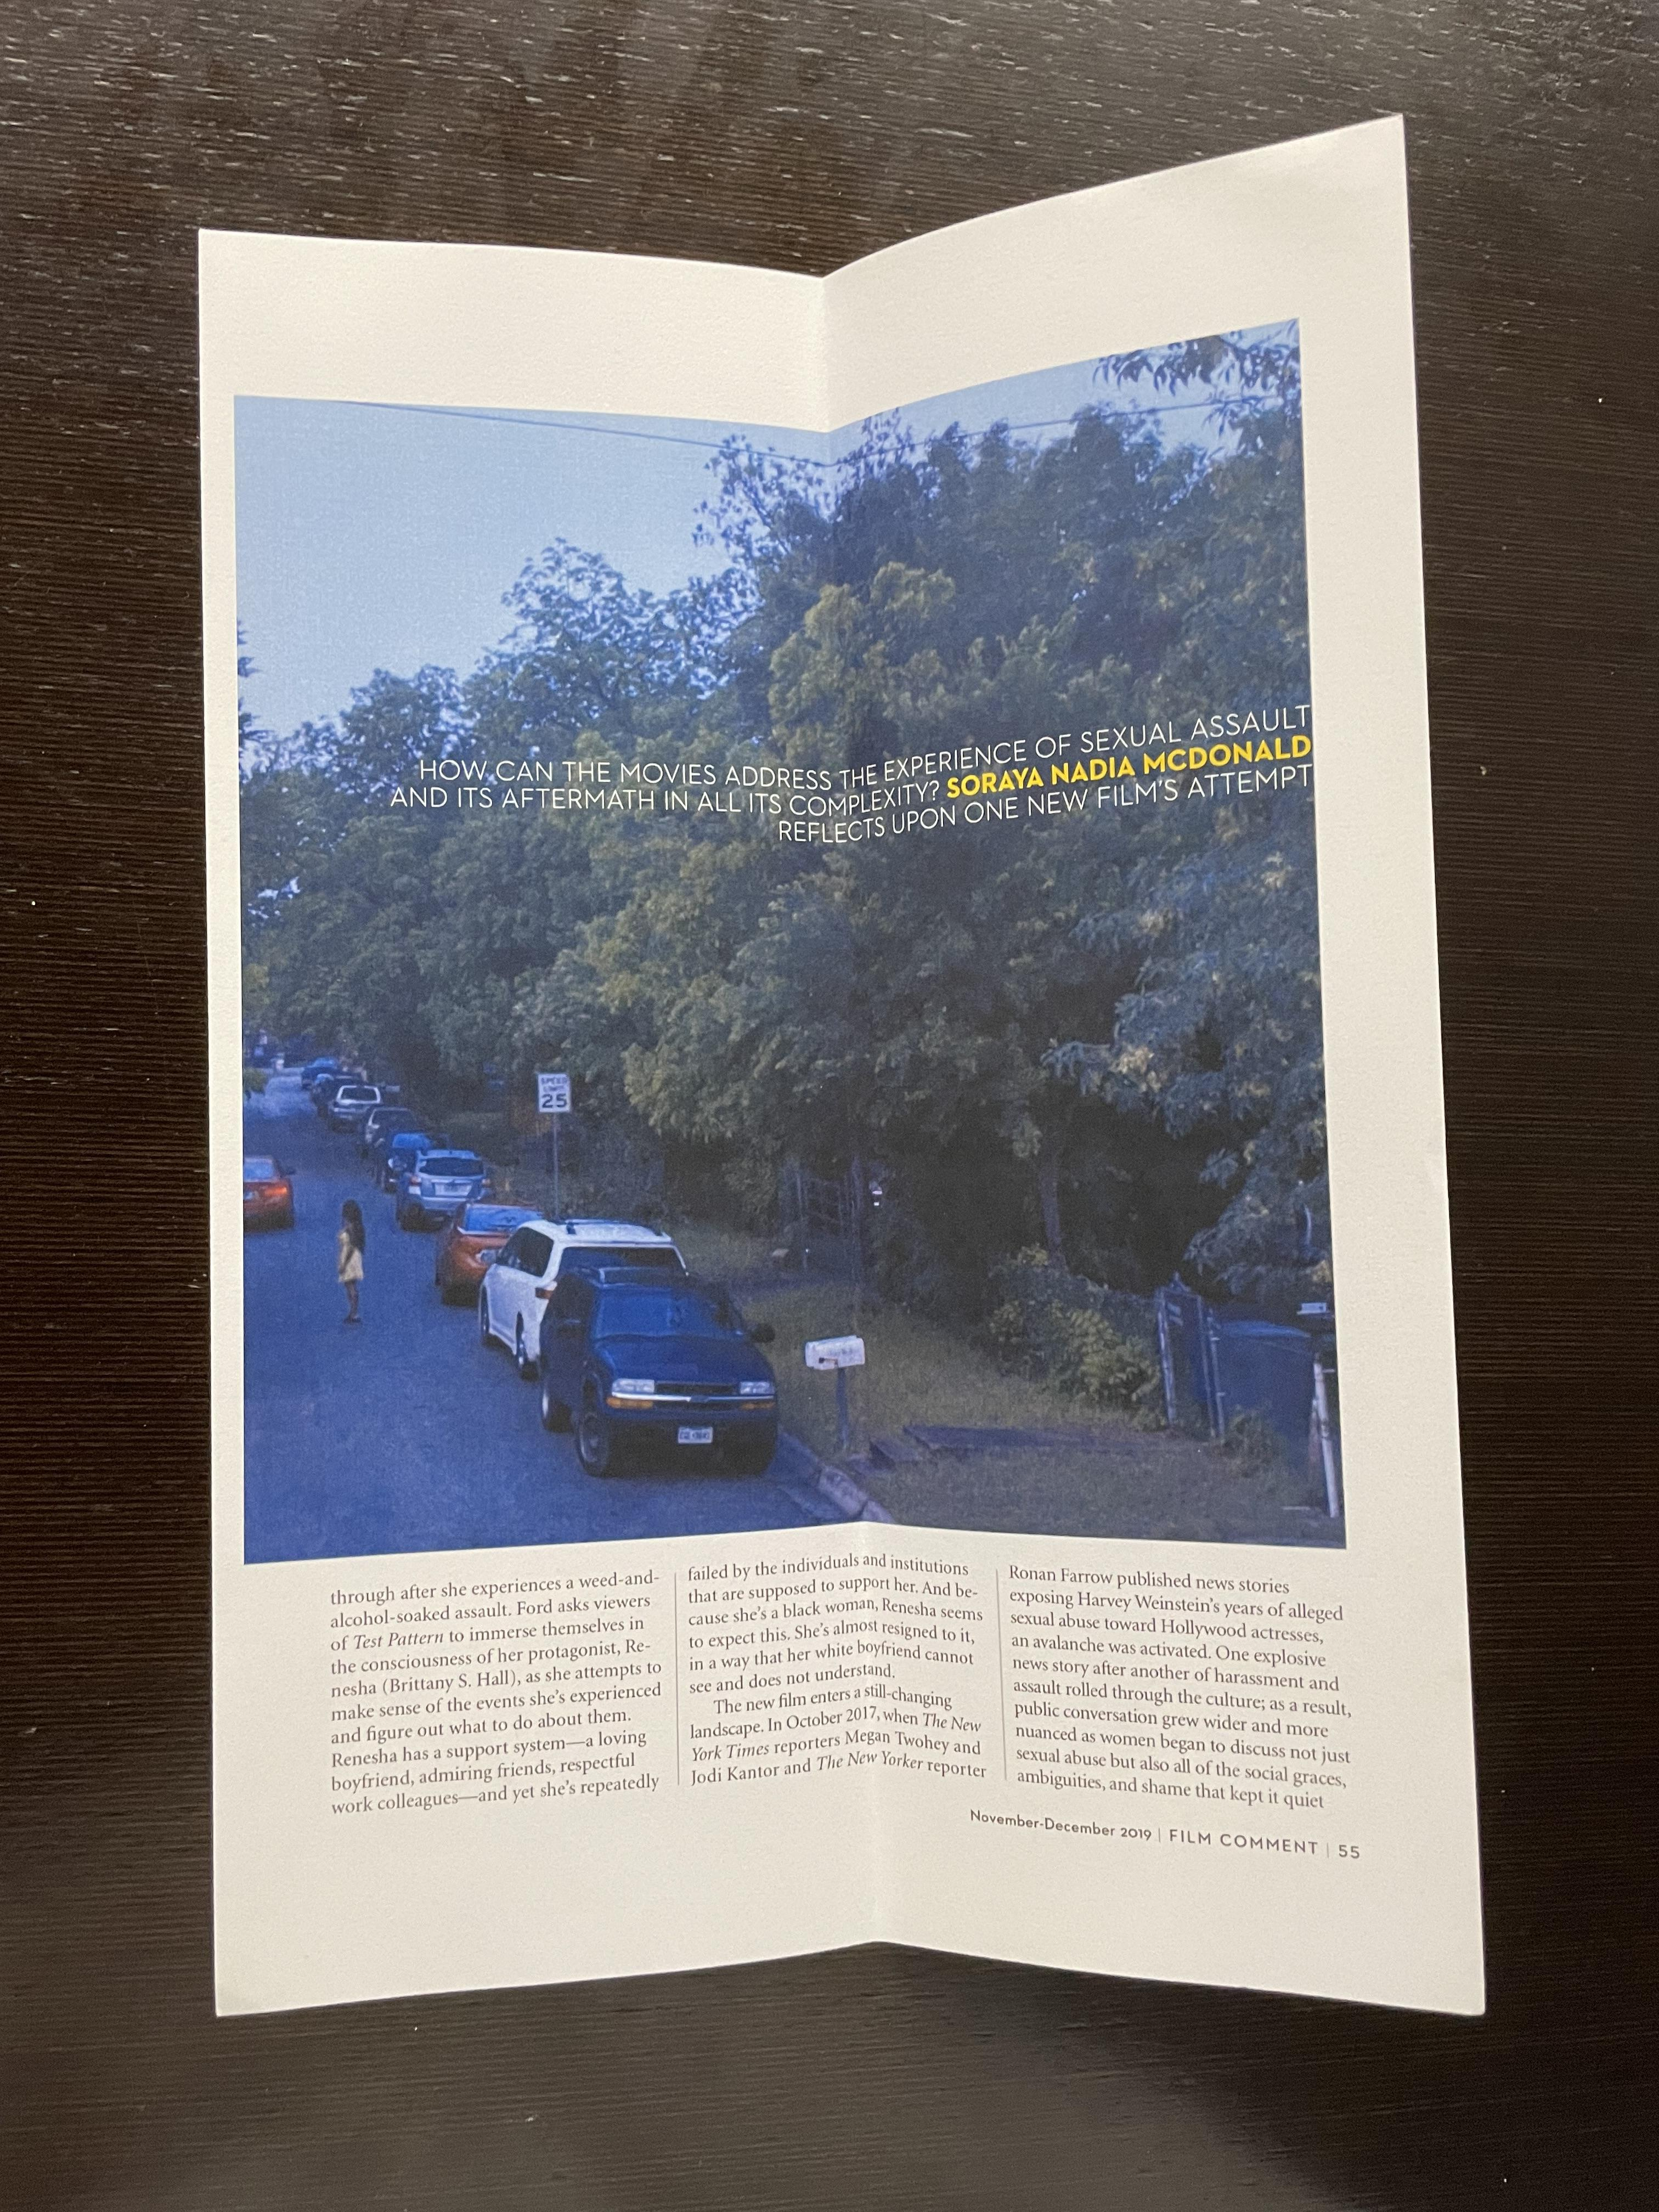paper: (58, 54, 1603, 2038)
